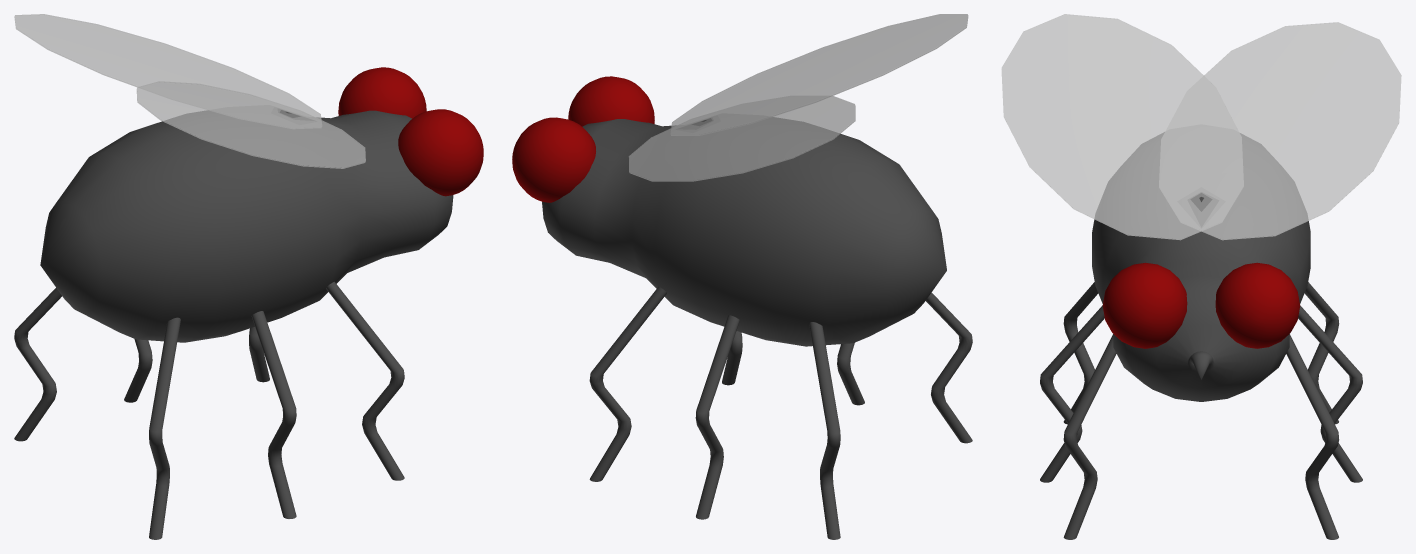
The model's file is flyModel.fbx.
The picture shows the model from 3 angles, left to right: view 1: azimuth 30°, elevation 25°; view 2: azimuth 150°, elevation 25°; view 3: azimuth 270°, elevation 25°; orthographic projection. The views are drawn at different scales.
Parts seen in each view (by area): view 1: pCylinder1, rWing, lWing, right_Eye, left_Eye, LBLeg, LMLeg, LFLeg, RBLeg, RMLeg, RFLeg; view 2: pCylinder1, lWing, rWing, left_Eye, right_Eye, RBLeg, RMLeg, RFLeg, LBLeg, LMLeg, LFLeg; view 3: lWing, rWing, pCylinder1, left_Eye, right_Eye, RFLeg, LFLeg, LMLeg, RMLeg, LBLeg, RBLeg.
Part boxes in pixels (x1=…): pCylinder1: x1=40, y1=109, x2=453, y2=342; rWing: x1=14, y1=14, x2=321, y2=128; lWing: x1=136, y1=81, x2=365, y2=168; right_Eye: x1=398, y1=109, x2=483, y2=196; left_Eye: x1=338, y1=67, x2=426, y2=118; LBLeg: x1=149, y1=317, x2=180, y2=539; LMLeg: x1=251, y1=311, x2=296, y2=518; LFLeg: x1=326, y1=281, x2=404, y2=480; RBLeg: x1=14, y1=288, x2=61, y2=441; RMLeg: x1=124, y1=339, x2=152, y2=402; RFLeg: x1=249, y1=327, x2=269, y2=382; pCylinder1: x1=542, y1=117, x2=946, y2=346; lWing: x1=670, y1=14, x2=968, y2=135; rWing: x1=628, y1=96, x2=855, y2=181; left_Eye: x1=512, y1=117, x2=595, y2=202; right_Eye: x1=568, y1=76, x2=654, y2=126; RBLeg: x1=809, y1=322, x2=840, y2=539; RMLeg: x1=695, y1=315, x2=739, y2=519; RFLeg: x1=589, y1=286, x2=666, y2=481; LBLeg: x1=926, y1=292, x2=972, y2=443; LMLeg: x1=837, y1=342, x2=864, y2=405; LFLeg: x1=722, y1=331, x2=742, y2=385; lWing: x1=1001, y1=14, x2=1243, y2=240; rWing: x1=1159, y1=22, x2=1401, y2=240; pCylinder1: x1=1092, y1=132, x2=1310, y2=401; left_Eye: x1=1215, y1=262, x2=1300, y2=348; right_Eye: x1=1102, y1=262, x2=1187, y2=348; RFLeg: x1=1286, y1=334, x2=1339, y2=539; LFLeg: x1=1063, y1=334, x2=1116, y2=539; LMLeg: x1=1040, y1=305, x2=1104, y2=482; RMLeg: x1=1298, y1=305, x2=1362, y2=482; LBLeg: x1=1063, y1=282, x2=1098, y2=424; RBLeg: x1=1304, y1=282, x2=1339, y2=424.
Bounding box in the file's own units: 4.59 × 4.19 × 3.71.
